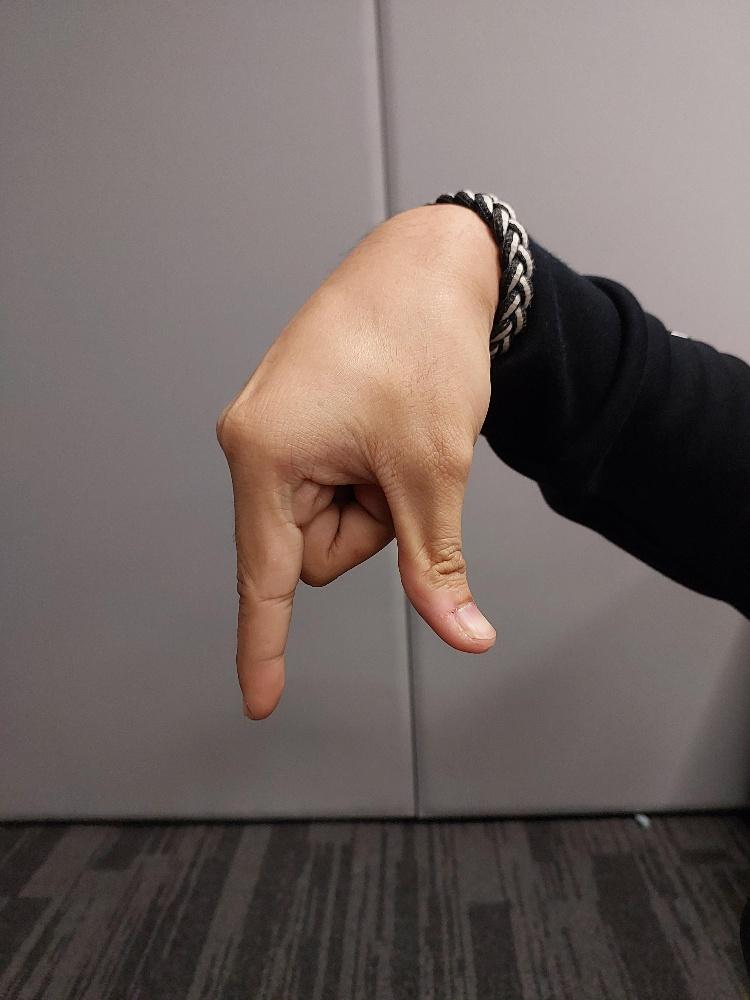q: (214, 187, 497, 721)
